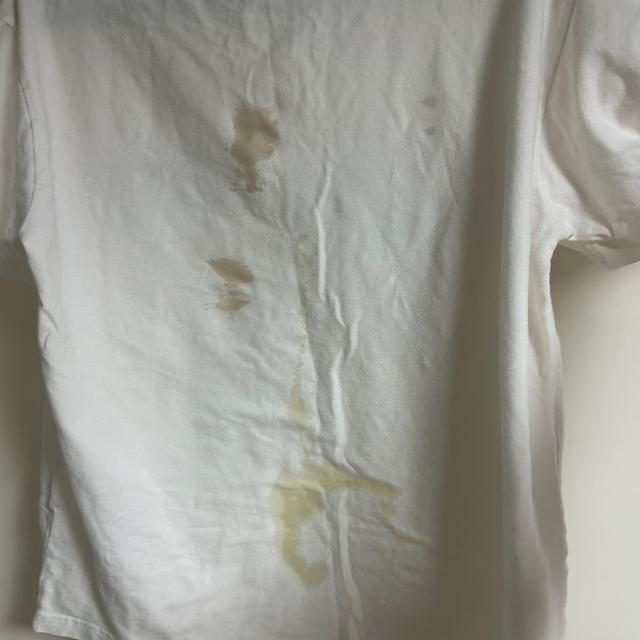stain: (267, 458, 408, 596), (224, 105, 288, 205), (210, 252, 258, 323), (404, 90, 459, 144), (276, 371, 324, 428)
